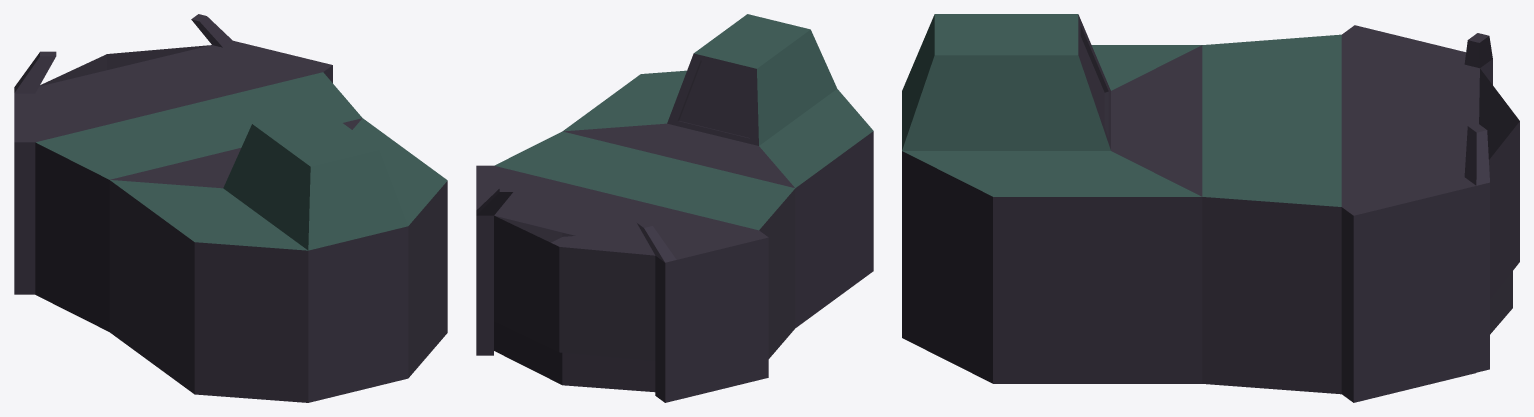
File: manufacturer.glb
The picture shows the model from 3 angles, left to right: view 1: azimuth 30°, elevation 25°; view 2: azimuth 150°, elevation 25°; view 3: azimuth 270°, elevation 25°; orthographic projection. The views are drawn at different scales.
Visible parts, largest first — view 1: Cylinder; view 2: Cylinder; view 3: Cylinder.
Boxes of the visible parts, bbox=[...] form: Cylinder: bbox=[14, 14, 447, 402]; Cylinder: bbox=[476, 14, 873, 402]; Cylinder: bbox=[902, 14, 1519, 402].
Bounding box in the file's own units: 4.35 × 2.91 × 5.96.
